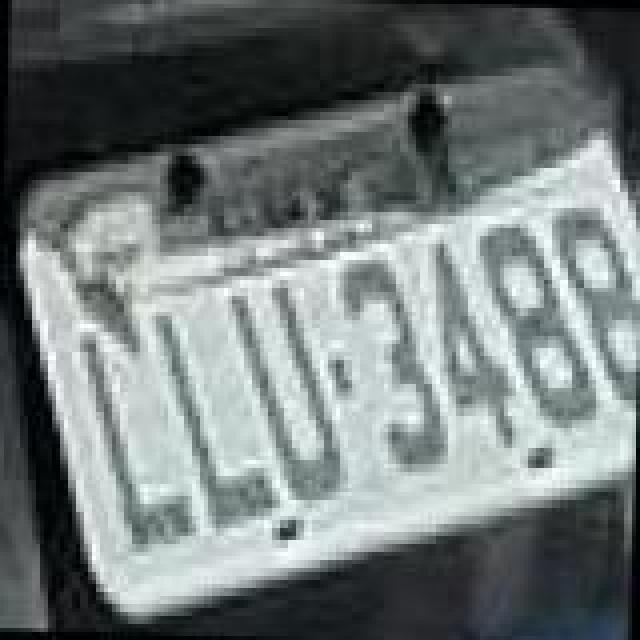3: (326, 256, 458, 480)
4: (420, 238, 524, 450)
8: (468, 220, 604, 428), (544, 202, 640, 406)
L: (146, 312, 286, 536), (70, 330, 202, 558)
U: (220, 278, 356, 506)
